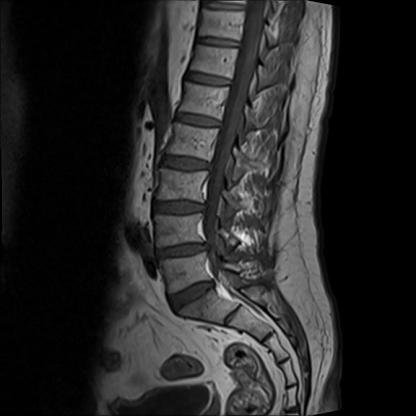Degenerative Disc Diseaserotation: (153, 239, 220, 264), (162, 283, 225, 307)
Disc Bulgerotation: (153, 240, 217, 264)
Disc Relaxationrotation: (147, 195, 213, 223)
